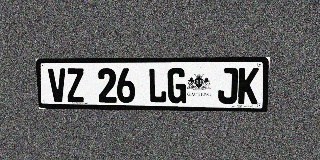2: (98, 68, 117, 103)
6: (116, 68, 135, 103)
G: (167, 68, 186, 103)
J: (217, 68, 238, 104)
K: (238, 68, 259, 104)
L: (148, 68, 167, 103)
V: (48, 68, 67, 102)
Z: (66, 68, 85, 102)
